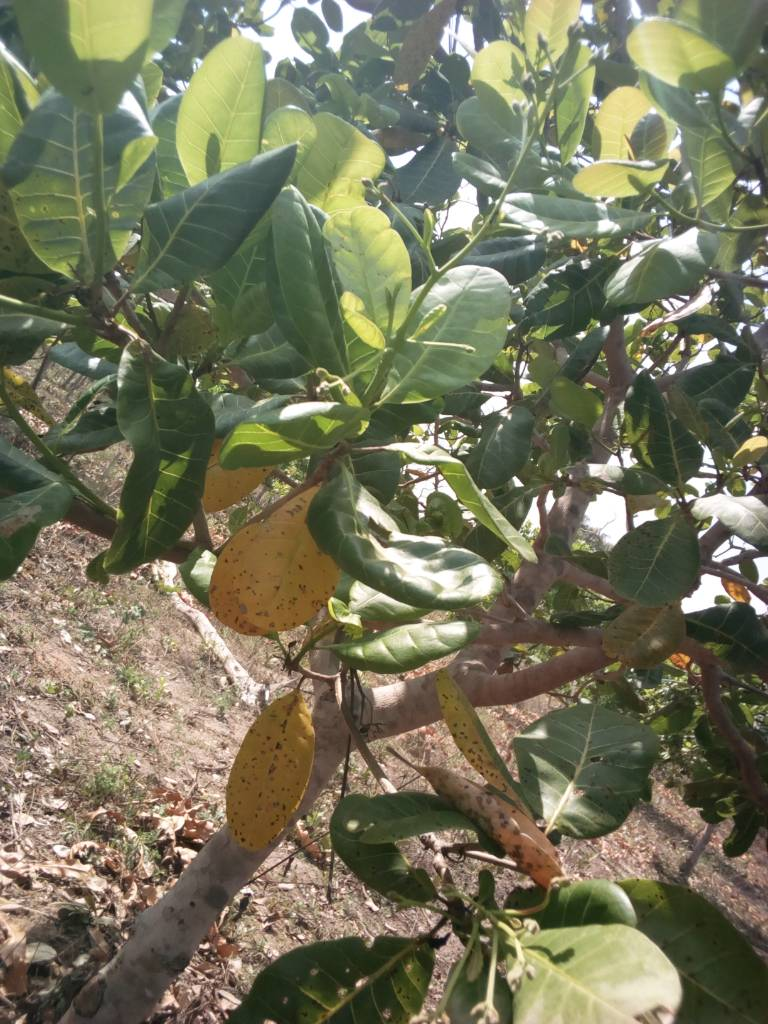Anthracnose: (204, 496, 330, 646), (225, 688, 311, 849), (433, 682, 535, 814)
